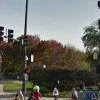Traffic light: (3, 21, 34, 51)
